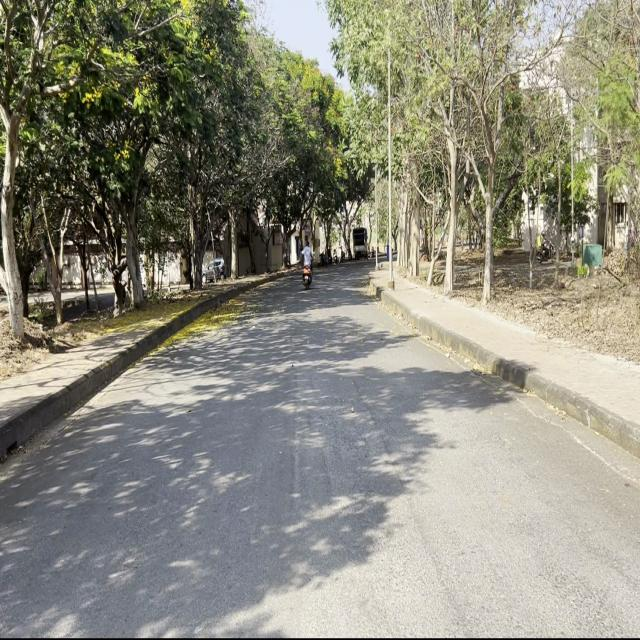Object: (298, 230, 317, 294), (348, 219, 370, 267)
Road: (3, 267, 636, 633)
